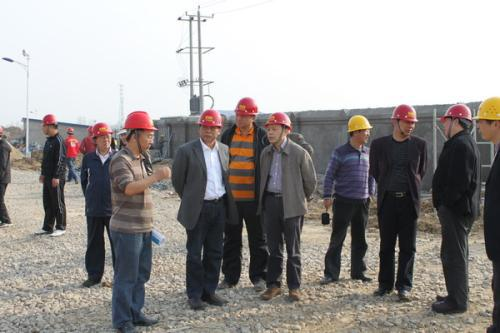helmet: (122, 108, 157, 155), (475, 92, 499, 145), (441, 102, 472, 140), (264, 109, 292, 146), (198, 107, 223, 145), (390, 103, 417, 138), (345, 114, 372, 149), (235, 94, 260, 128), (91, 119, 113, 152), (42, 112, 60, 139)
